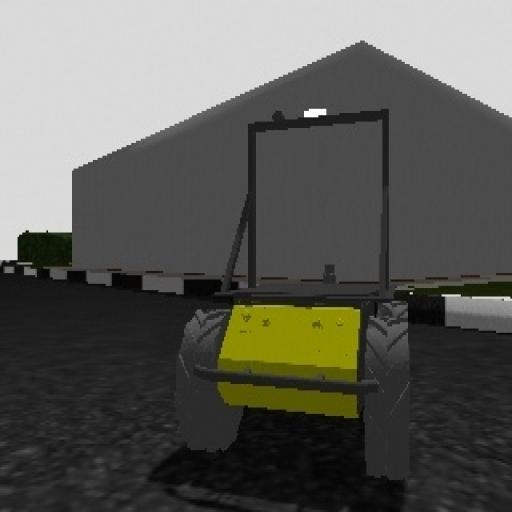huskya200: (164, 100, 424, 501)
